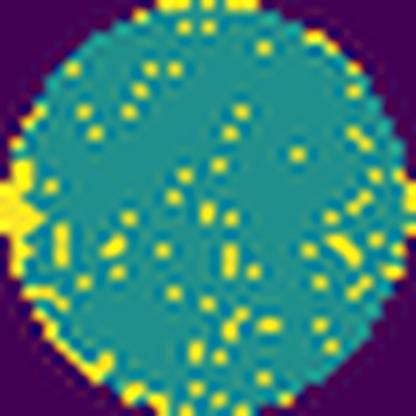Edge-Loc: (36, 311, 123, 393), (0, 154, 54, 278)
